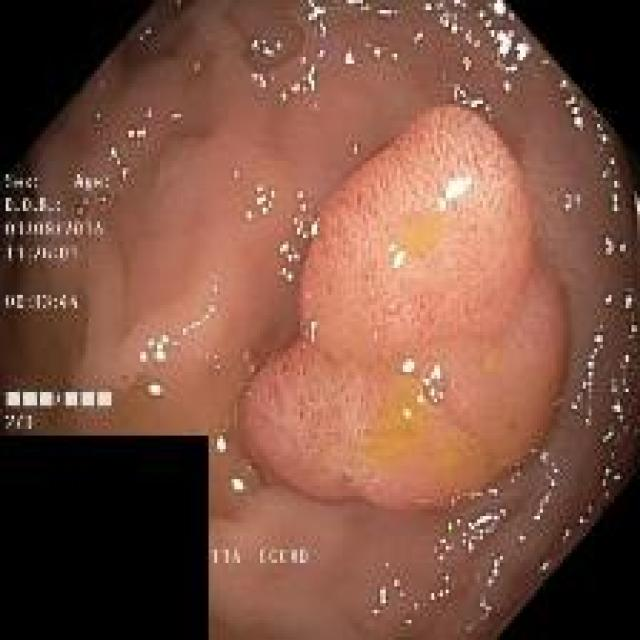Polyps: (241, 107, 569, 510)
